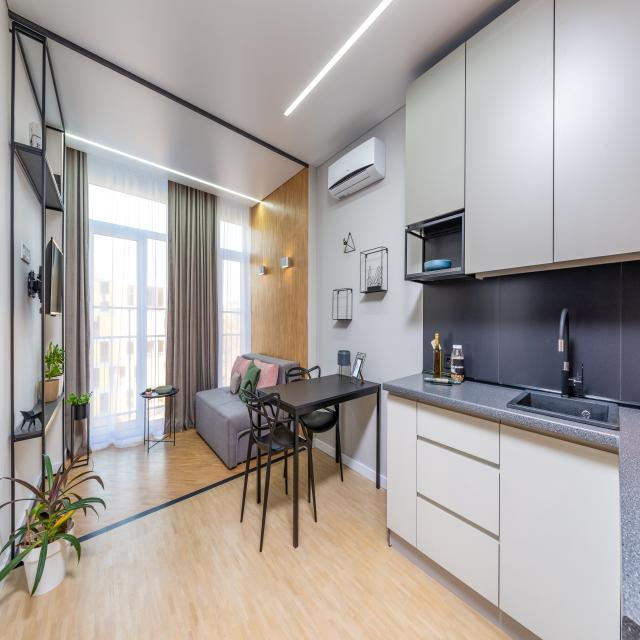floor: (0, 447, 515, 640), (64, 427, 246, 538), (149, 432, 170, 441), (54, 474, 62, 493), (65, 494, 79, 504), (271, 451, 284, 461), (161, 432, 174, 442), (73, 460, 87, 467), (249, 458, 257, 470), (65, 455, 71, 470), (149, 441, 159, 449), (261, 454, 268, 465), (45, 478, 49, 492), (78, 456, 87, 461), (287, 448, 294, 454), (57, 494, 63, 500), (60, 481, 64, 489), (298, 446, 304, 450), (60, 464, 63, 472), (53, 476, 56, 482)
wall: (316, 104, 423, 491), (251, 167, 309, 370), (14, 153, 42, 432), (14, 31, 42, 149), (308, 165, 317, 370), (14, 437, 42, 493), (45, 402, 63, 474), (45, 208, 62, 253), (45, 314, 62, 356), (15, 500, 35, 531), (0, 503, 11, 553), (14, 481, 37, 500), (0, 544, 11, 572), (0, 478, 11, 506)
